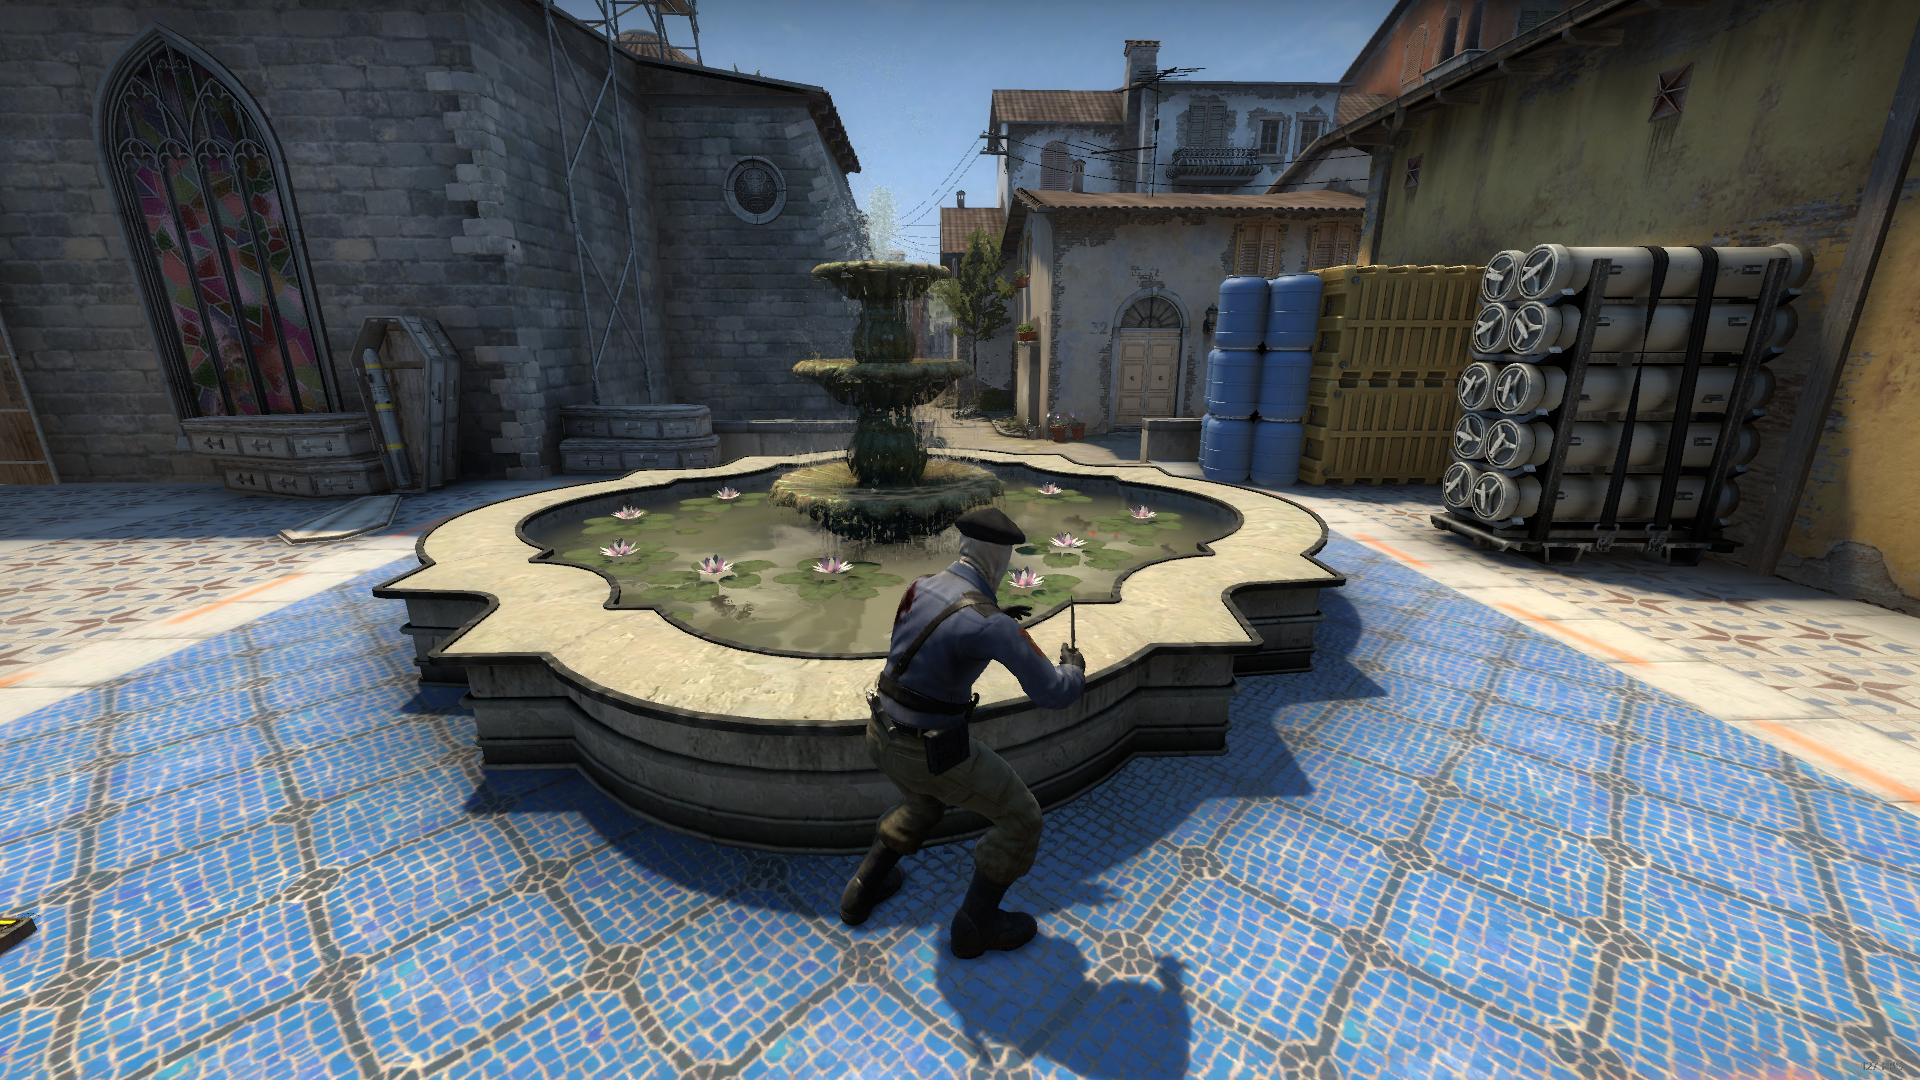t: (847, 504, 1098, 969)
